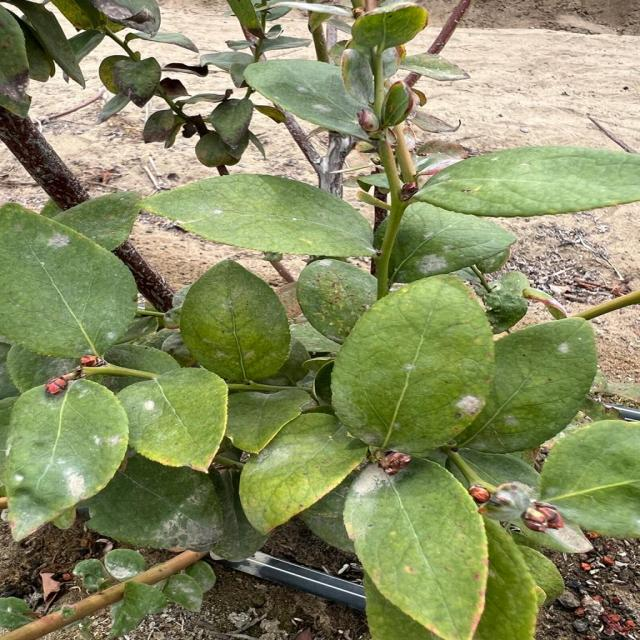Hojas con oidiosis: (325, 271, 497, 462), (338, 456, 490, 640), (134, 171, 384, 258), (3, 374, 129, 544), (99, 364, 230, 472)
